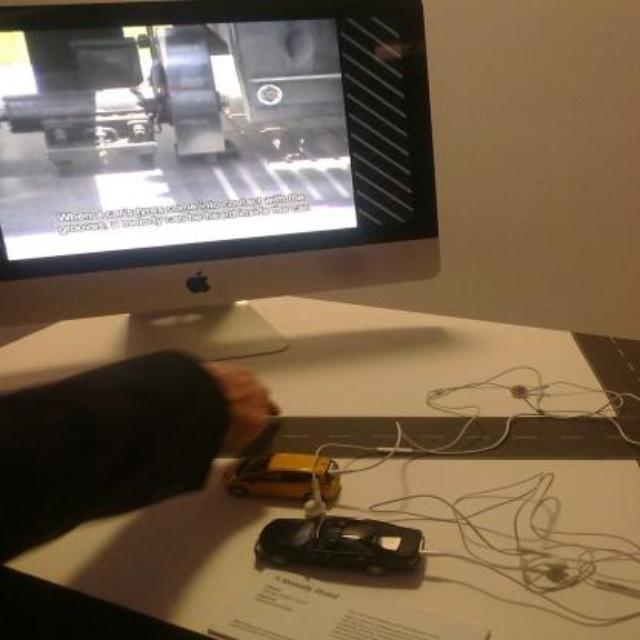Flat-Panel-Monitor: (0, 0, 448, 314)
